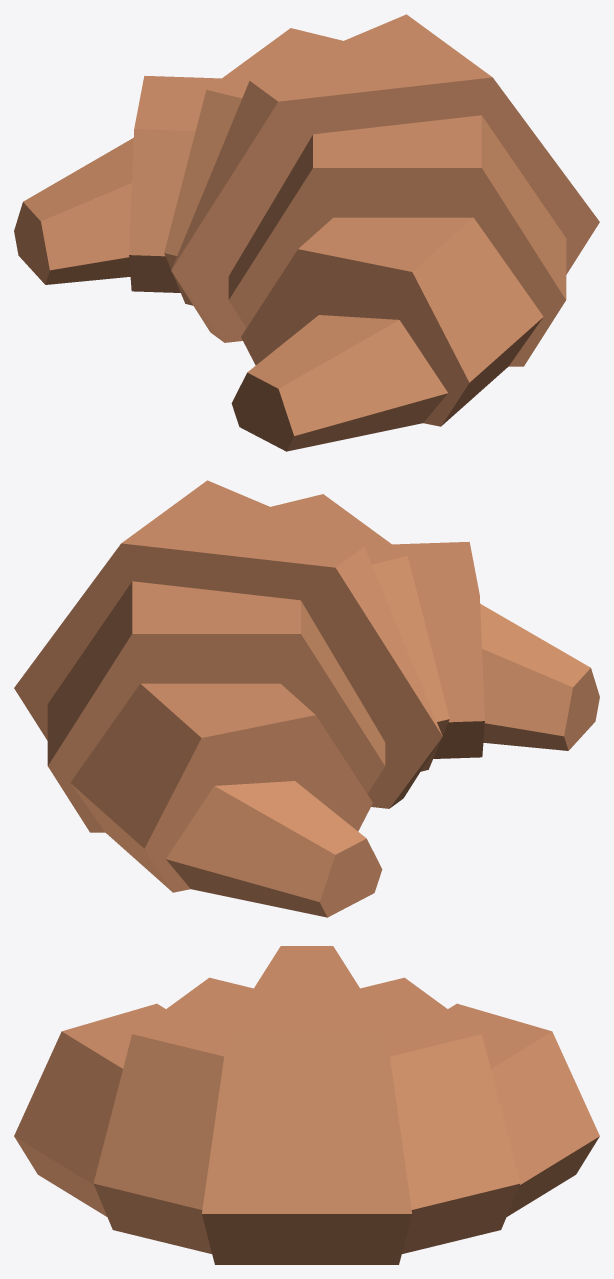
Rendered from croissant.glb.
3 renders of one model, top to bottom at view 1: azimuth 30°, elevation 25°; view 2: azimuth 150°, elevation 25°; view 3: azimuth 270°, elevation 25°, orthographic. The views are drawn at different scales.
Parts seen in each view (by area): view 1: croissant; view 2: croissant; view 3: croissant.
Part boxes in pixels (<box>): croissant: <box>14,14,599,451</box>; croissant: <box>14,480,599,917</box>; croissant: <box>14,946,599,1264</box>.
Size of the model in its own units: 0.0969 by 0.0542 by 0.1337.
